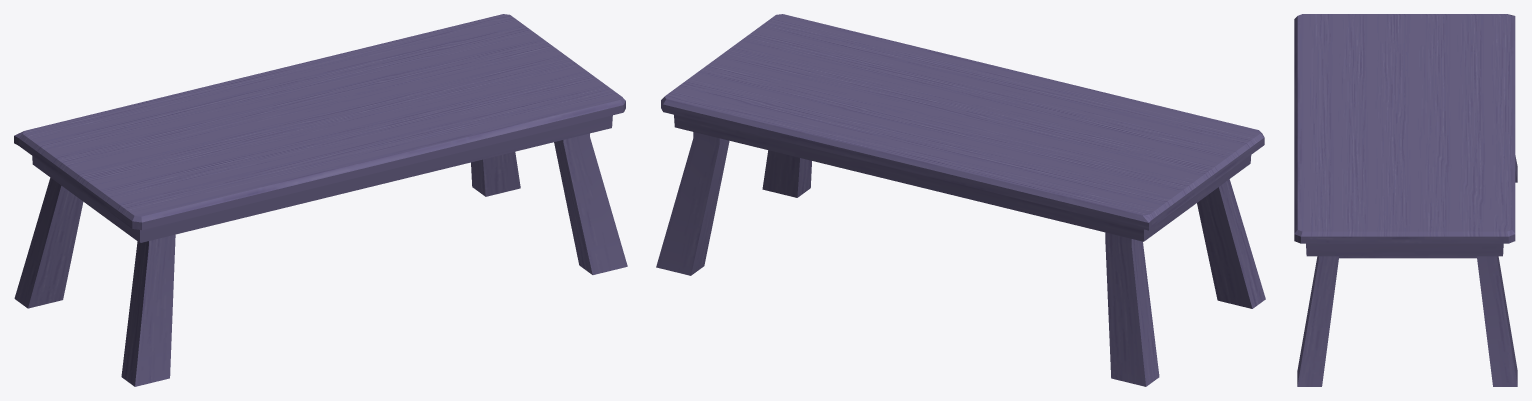
The model's file is Bench_F.FBX.
3 views of the same model, side by side, from view 1: azimuth 30°, elevation 25°; view 2: azimuth 150°, elevation 25°; view 3: azimuth 270°, elevation 25° (orthographic). The views are drawn at different scales.
Visible parts, largest first — view 1: Bench; view 2: Bench; view 3: Bench.
Part boxes in pixels (x1,y1,x2,y2): Bench: [14, 14, 627, 386]; Bench: [656, 14, 1265, 386]; Bench: [1294, 14, 1517, 386].
Bounding box in the file's own units: 281 × 91.5 × 120.
